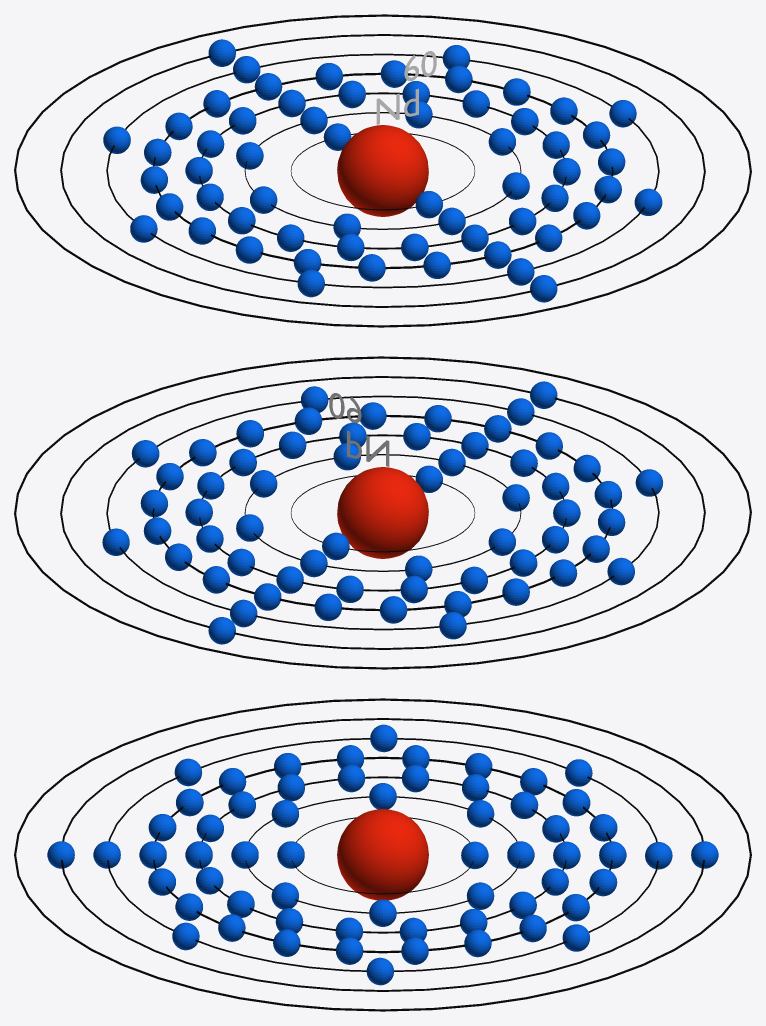
3 renders of one model, top to bottom at view 1: azimuth 30°, elevation 25°; view 2: azimuth 150°, elevation 25°; view 3: azimuth 270°, elevation 25°, orthographic.
Parts seen in each view (by area): view 1: Nd4, Nd3, Proton, Nd5, n7, Nd2, n6, n5, n4, Nd6, Nd1, n3 (+2 smaller); view 2: Nd4, Nd3, Proton, Nd5, n7, Nd2, n6, n5, n4, Nd6, Nd1, n3 (+2 smaller); view 3: Nd4, Nd3, Proton, Nd5, Nd2, n7, n6, n5, n4, Nd1, Nd6, n3 (+2 smaller).
Boxes of the visible parts, x1,y1,x2,y2 form: Nd4: [140, 60, 625, 281]; Nd3: [185, 80, 580, 261]; Proton: [337, 125, 428, 216]; Nd5: [103, 45, 662, 297]; n7: [14, 14, 751, 327]; Nd2: [236, 101, 529, 238]; n6: [60, 34, 705, 307]; n5: [106, 53, 659, 288]; n4: [153, 72, 613, 269]; Nd6: [208, 39, 557, 302]; Nd1: [323, 123, 442, 218]; n3: [199, 92, 566, 249]; Nd4: [140, 402, 625, 623]; Nd3: [185, 422, 580, 603]; Proton: [337, 467, 428, 558]; Nd5: [102, 386, 663, 639]; n7: [14, 356, 751, 669]; Nd2: [236, 443, 529, 580]; n6: [60, 376, 705, 649]; n5: [106, 395, 659, 630]; n4: [152, 415, 612, 611]; Nd6: [208, 381, 557, 644]; Nd1: [322, 465, 442, 560]; n3: [199, 434, 566, 591]; Nd4: [139, 745, 626, 964]; Nd3: [185, 764, 580, 941]; Proton: [337, 809, 428, 900]; Nd5: [93, 724, 672, 985]; Nd2: [231, 783, 534, 926]; n7: [14, 698, 751, 1011]; n6: [61, 718, 704, 991]; n5: [107, 738, 658, 971]; n4: [153, 756, 612, 953]; Nd1: [277, 841, 488, 869]; Nd6: [47, 841, 718, 868]; n3: [199, 776, 566, 933].
Bounding box in the file's own units: 802 × 180 × 802.
